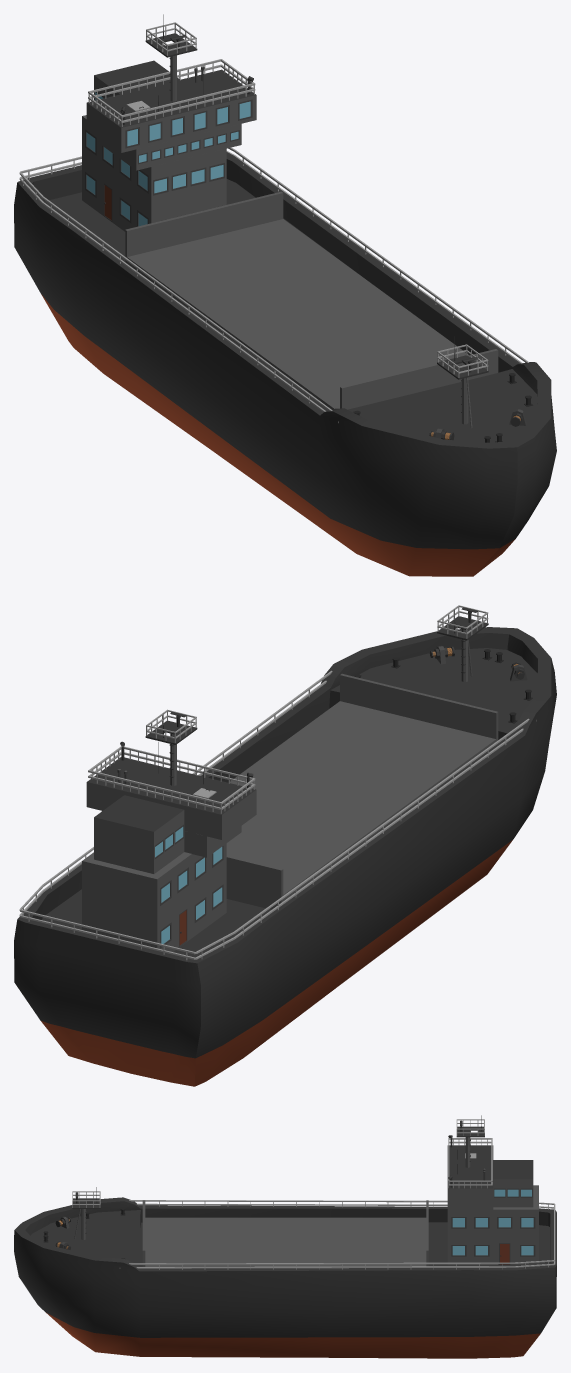
Rendered from SM_Vehicles_Cargo_ship_01.fbx.
The picture shows the model from 3 angles, top to bottom: view 1: azimuth 30°, elevation 25°; view 2: azimuth 150°, elevation 25°; view 3: azimuth 270°, elevation 25°; orthographic projection. The views are drawn at different scales.
Visible parts, largest first — view 1: SM_Vehicles_Cargo_ship_01; view 2: SM_Vehicles_Cargo_ship_01; view 3: SM_Vehicles_Cargo_ship_01.
Part boxes in pixels (x1,y1,x2,y2): SM_Vehicles_Cargo_ship_01: [14, 14, 556, 576]; SM_Vehicles_Cargo_ship_01: [14, 605, 556, 1086]; SM_Vehicles_Cargo_ship_01: [14, 1115, 556, 1358].
Size of the model in its own units: 13.67 by 21.45 by 47.47.
